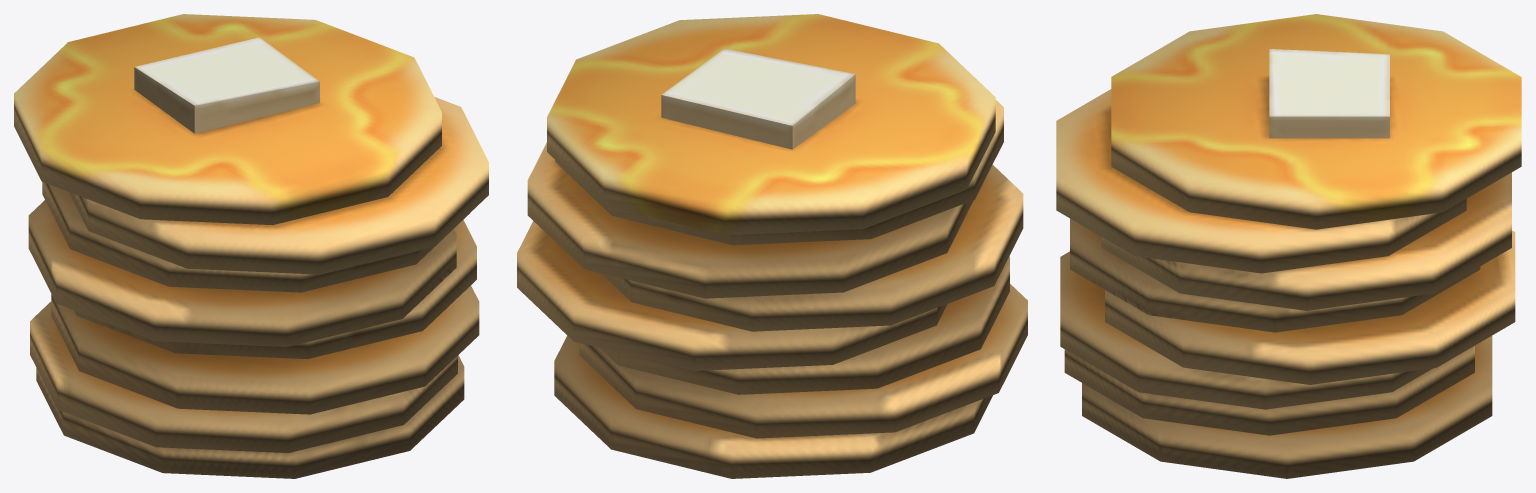
The model's file is pancakes.fbx.
The picture shows the model from 3 angles, left to right: view 1: azimuth 30°, elevation 25°; view 2: azimuth 150°, elevation 25°; view 3: azimuth 270°, elevation 25°; orthographic projection. The views are drawn at different scales.
Parts seen in each view (by area): view 1: pancakes; view 2: pancakes; view 3: pancakes.
Part boxes in pixels (x1,y1,x2,y2): pancakes: (14, 14, 488, 478); pancakes: (517, 14, 1027, 478); pancakes: (1056, 14, 1521, 478).
Size of the model in its own units: 4.71 by 3.35 by 4.59.
